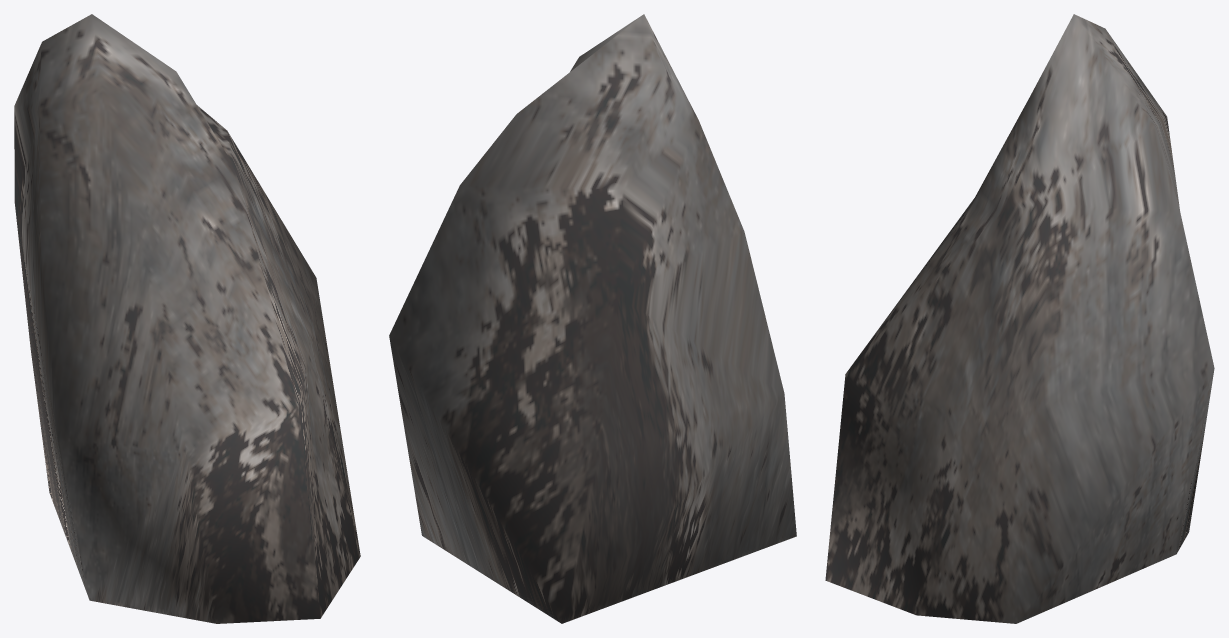
The model's file is stone15.fbx.
3 renders of one model, left to right at view 1: azimuth 30°, elevation 25°; view 2: azimuth 150°, elevation 25°; view 3: azimuth 270°, elevation 25°, orthographic. The views are drawn at different scales.
Visible parts, largest first — view 1: polySurface11; view 2: polySurface11; view 3: polySurface11.
Part boxes in pixels (left/top/right/bottom): polySurface11: left=14, top=14, right=360, bottom=623; polySurface11: left=389, top=14, right=796, bottom=623; polySurface11: left=825, top=14, right=1214, bottom=623.
Size of the model in its own units: 0.8521 by 1.49 by 0.9842.
1 material, 1 textured.
